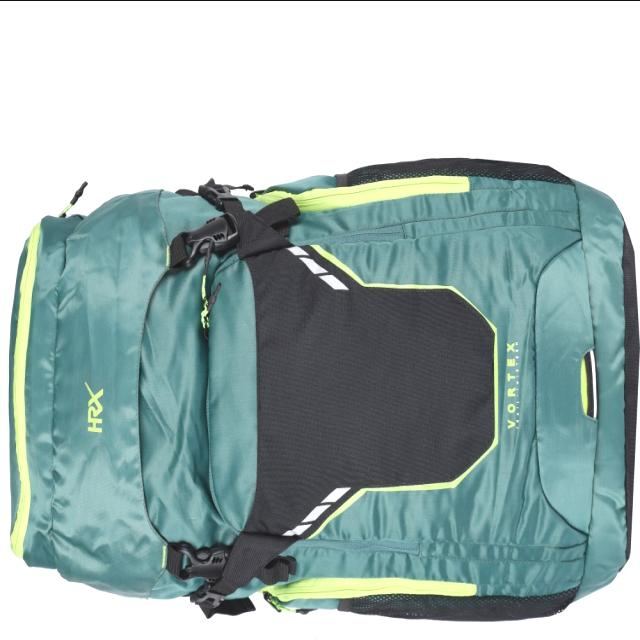backpack: (9, 157, 639, 624)
